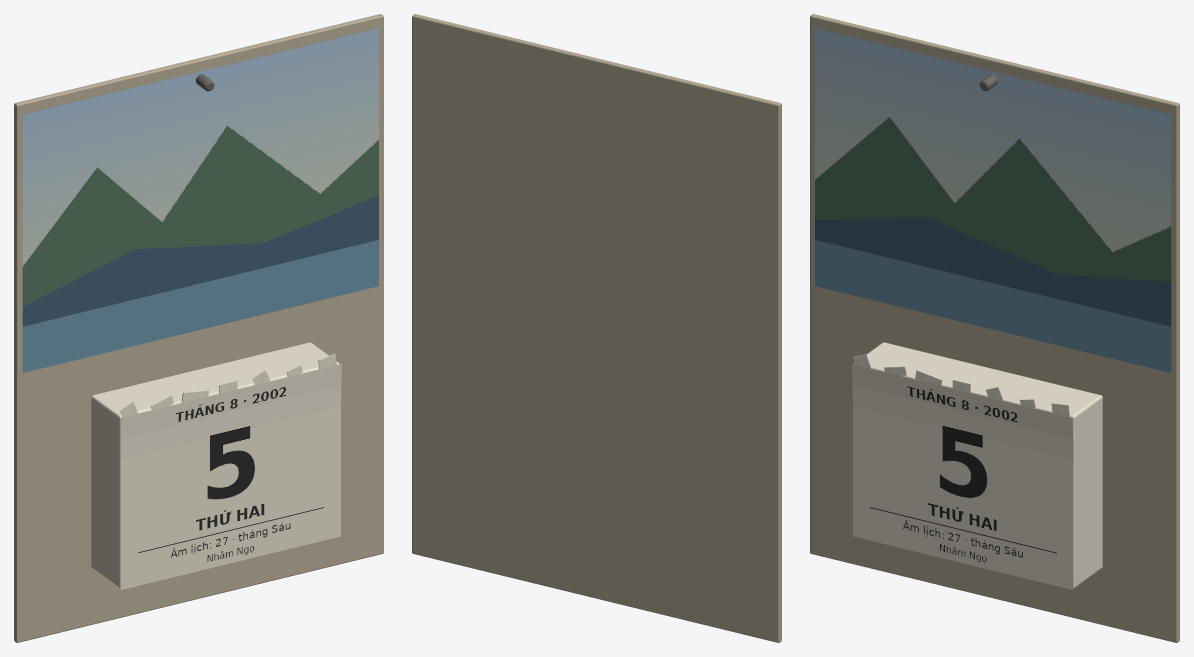
File: LichBloc.glb
The picture shows the model from 3 angles, left to right: view 1: azimuth 30°, elevation 25°; view 2: azimuth 150°, elevation 25°; view 3: azimuth 330°, elevation 25°; orthographic projection.
Visible parts, largest first — view 1: geometry_0; view 2: geometry_0; view 3: geometry_0.
Boxes of the visible parts, x1,y1,x2,y2 form: geometry_0: [14, 14, 383, 642]; geometry_0: [412, 14, 781, 642]; geometry_0: [810, 14, 1179, 642].
Bounding box in the file's own units: 0.2 × 0.28 × 0.0324.
Materials: 5 (2 with a texture image).
